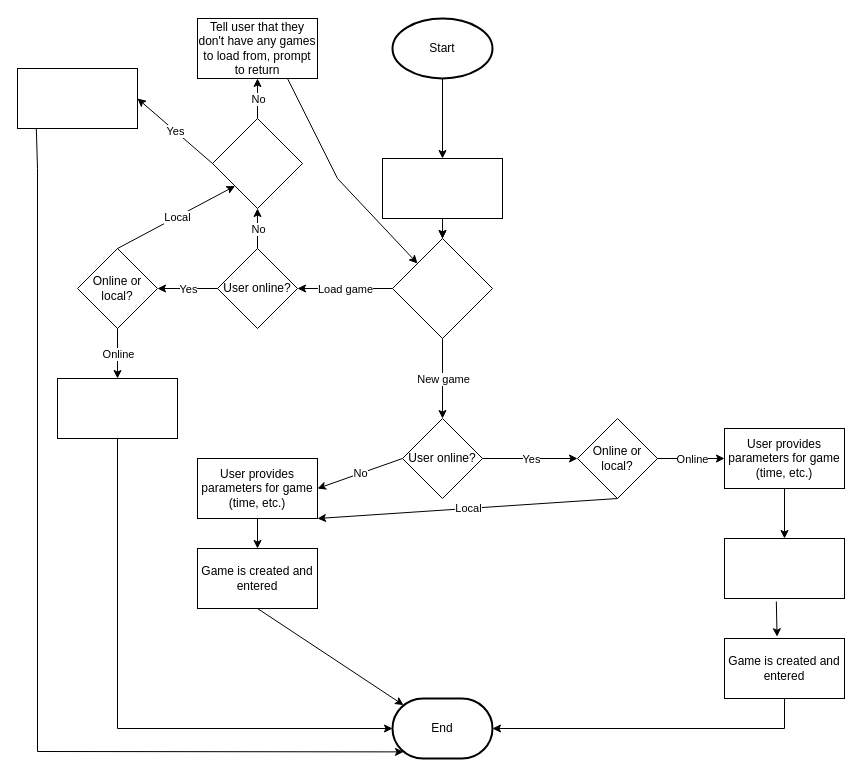
The diagram is 862 pixels wide and 777 high, and some of its shapes have lost their labels. Here are the shapes that lost their labels. From the top down, the centre of each, then its label:
point (77, 98): Load game that user specifies, and enter it.
point (257, 163): User has any saved games?
point (442, 188): User clicks "Play" in topbar
point (442, 288): New game or load game?
point (117, 408): Obtain game code for user, enter game
point (784, 568): User is given a game code, wait for opposing player to connect
